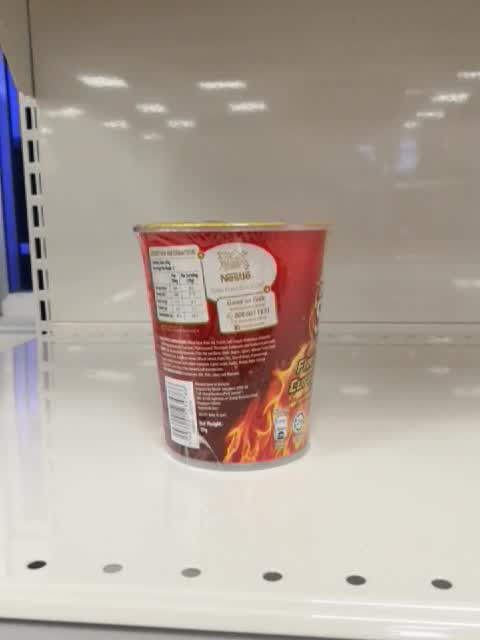maggi: (132, 221, 337, 473)
